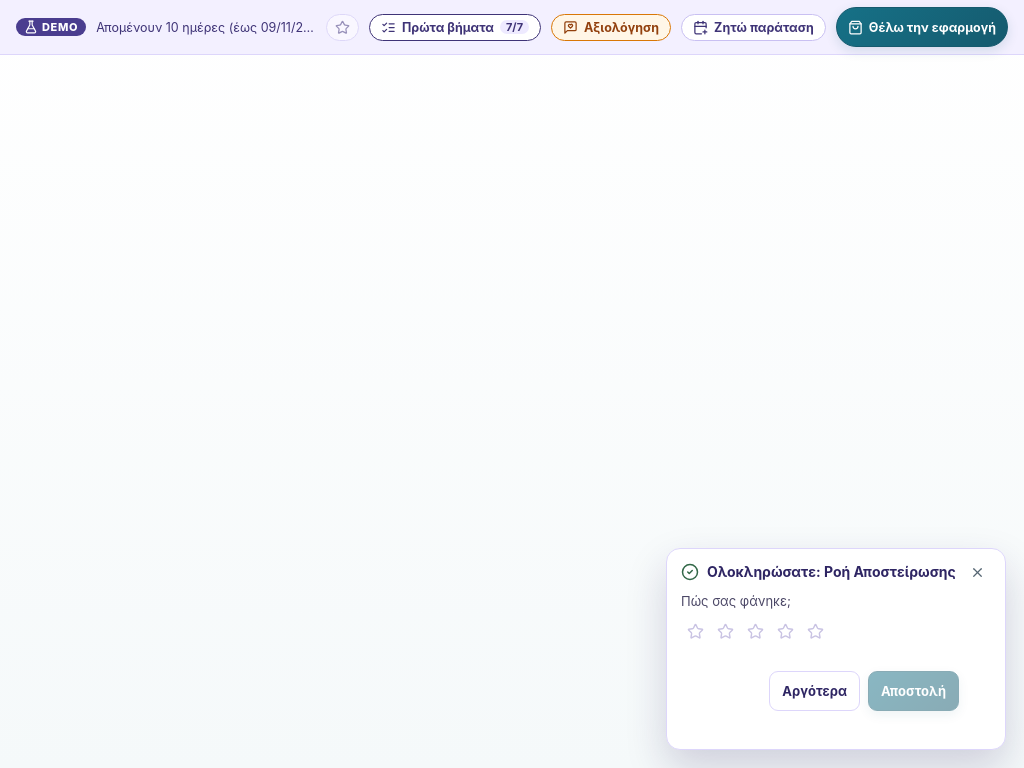
Test case: Demo bar › after the last step, asks for the final evaluation
This screenshot has width=1024, height=768.
Click the button "Αργότερα" at coordinates (815, 691), box [769,671,860,711]
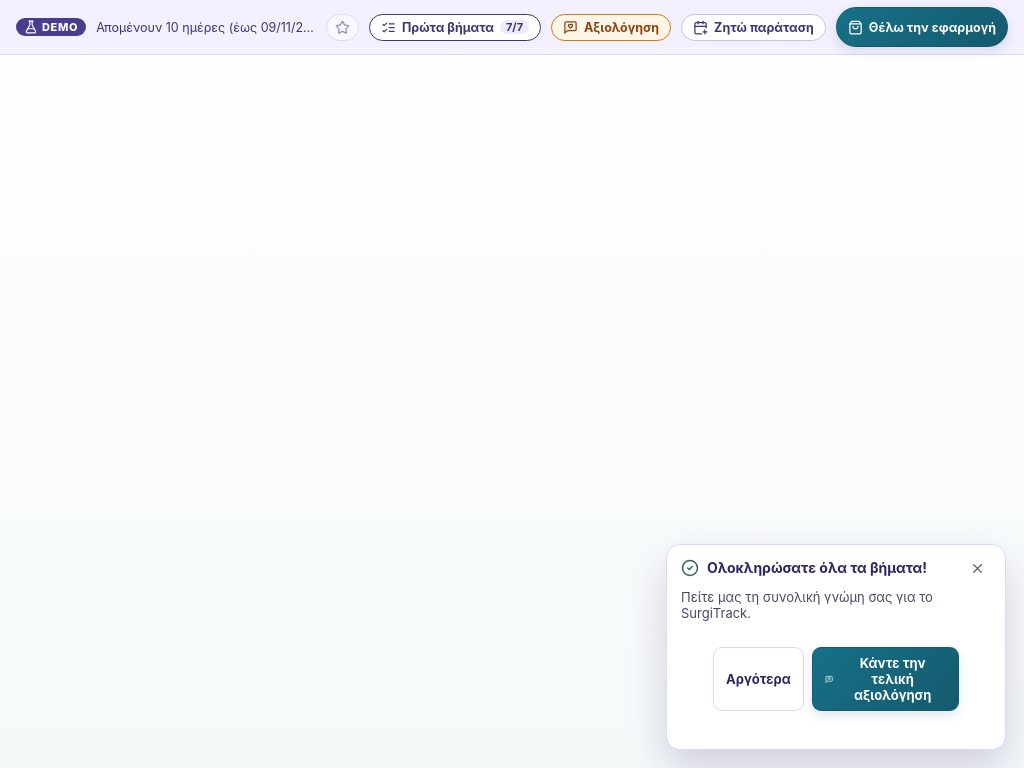
Click the button "Κάντε την τελική αξιολόγηση" at coordinates (885, 679), box [812,647,959,711]
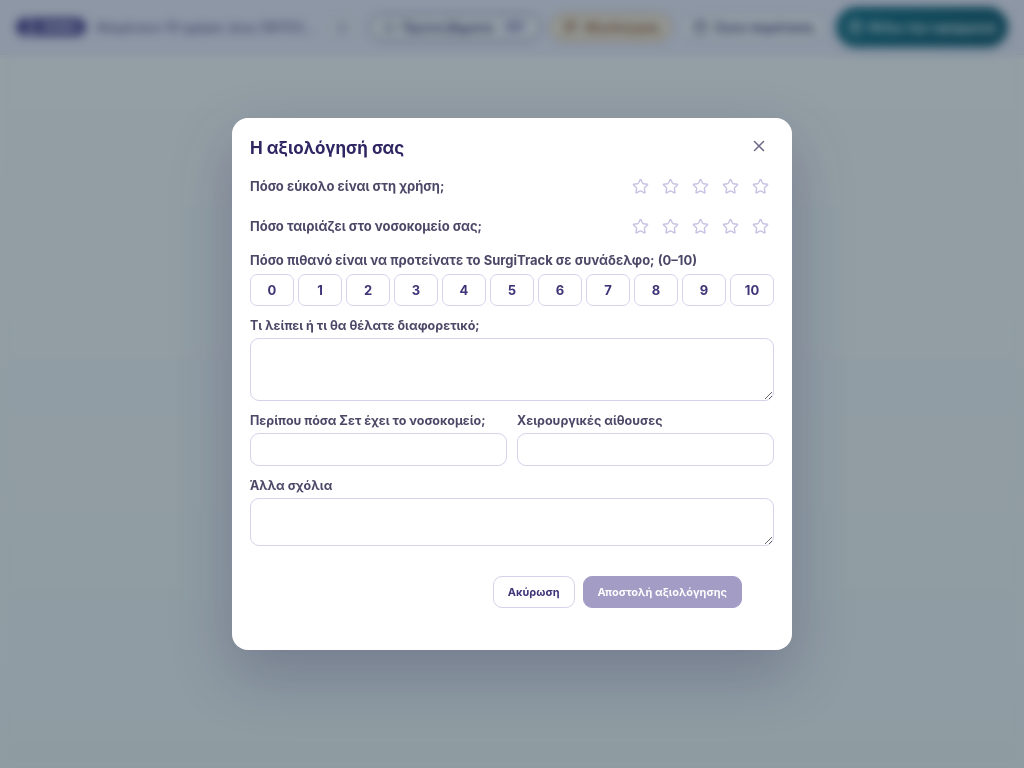
Expected: the dialog is shown, [232,118,792,650]
